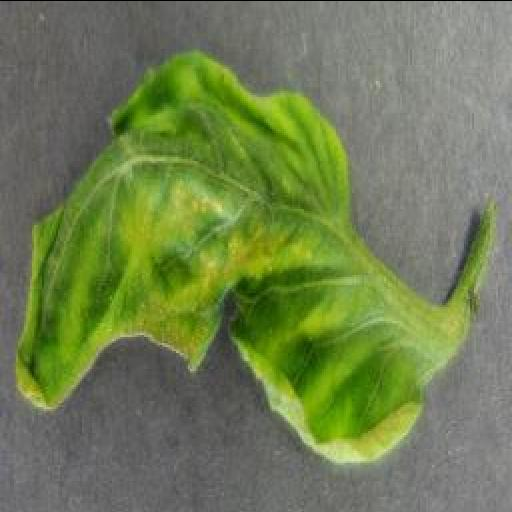disease_tomato: (8, 50, 422, 458)
